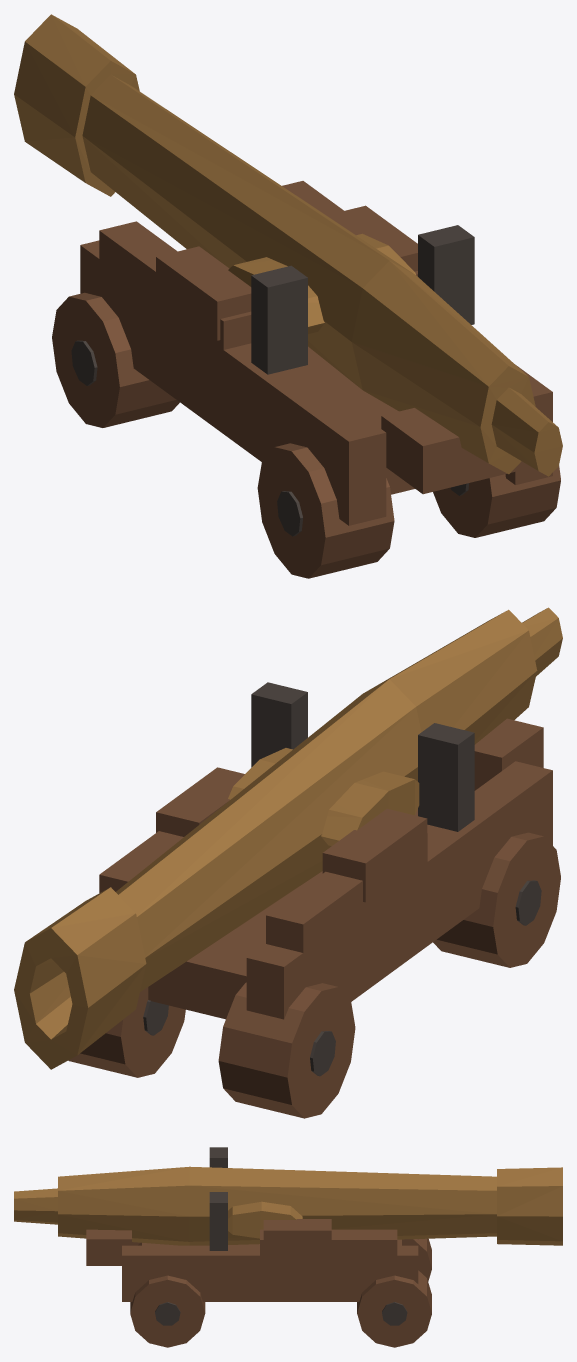
The model's file is cannon-24pdr.glb.
3 views of the same model, one above another, from view 1: azimuth 30°, elevation 25°; view 2: azimuth 150°, elevation 25°; view 3: azimuth 270°, elevation 25° (orthographic). The views are drawn at different scales.
Visible parts, largest first — view 1: structure, barrel; view 2: structure, barrel; view 3: barrel, structure.
Part boxes in pixels (left/top/right/bottom): structure: left=52, top=181, right=560, bottom=578; barrel: left=14, top=14, right=562, bottom=476; structure: left=68, top=682, right=560, bottom=1118; barrel: left=14, top=607, right=562, bottom=1069; barrel: left=14, top=1166, right=562, bottom=1245; structure: left=86, top=1147, right=431, bottom=1347.
Bounding box in the file's own units: 0.84 × 0.9 × 3.
